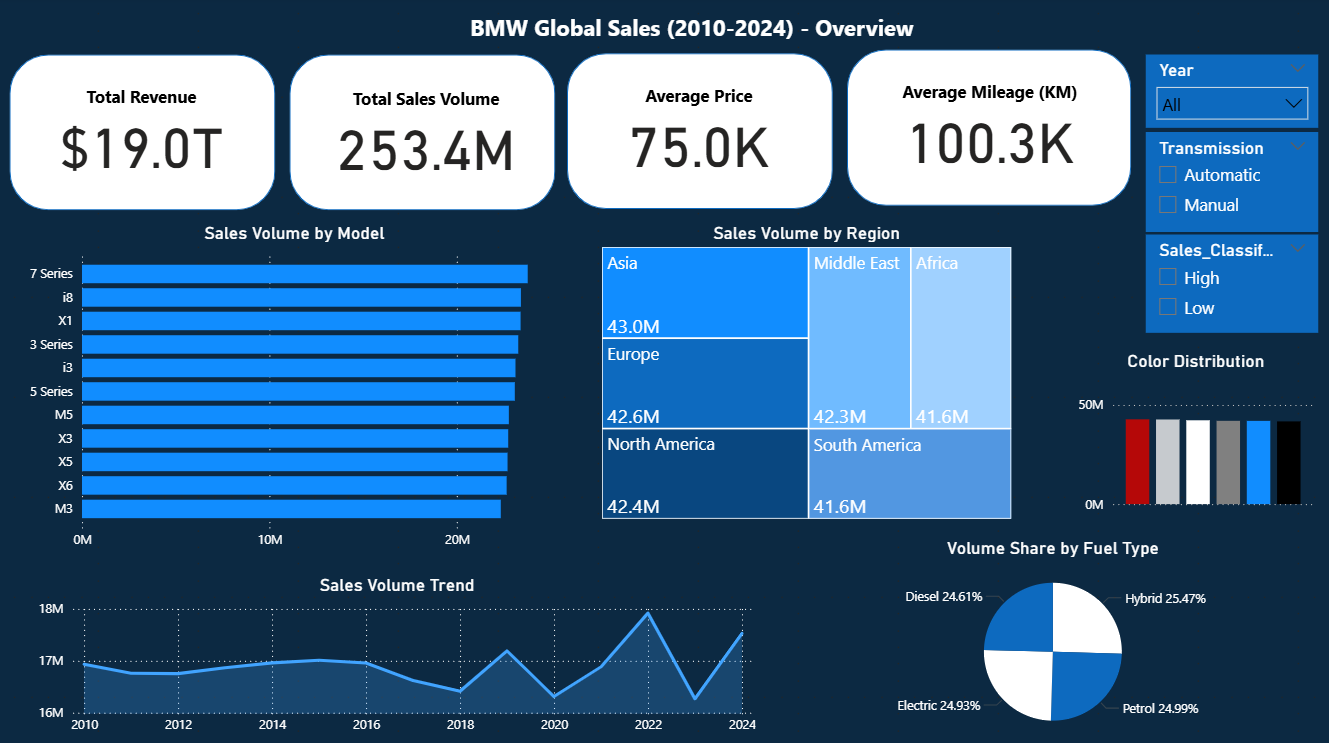

This screenshot's page, from the dashboard's own definition file:
{"tool":"powerbi","page":{"name":"Overview Dashboard","canvas":[1280,720],"ordinal":1},"visuals":[{"type":"slicer","fields":{"Values":["BMW sales data (2010-2024) (1).Year"]},"box":[1102.9,55.7,165.7,70],"z":0},{"type":"group","id":"g1","title":"Group 2","box":[12.3,55.7,255.7,148.6],"z":1000},{"type":"shape","box":[12.3,55.7,255.2,149.6],"z":2000,"group":"g1"},{"type":"group","id":"g2","title":"Group 3","box":[280.4,55.7,255.2,149.6],"z":2000},{"type":"textbox","box":[367.1,10,600,45.7],"z":3000},{"type":"shape","box":[816.1,50,272.9,150],"z":3000,"group":"g4"},{"type":"shape","box":[547.6,54.3,255.2,149.6],"z":3000,"group":"g3"},{"type":"shape","box":[280.4,55.7,255.2,149.6],"z":3000,"group":"g2"},{"type":"group","id":"g3","title":"Group 3","box":[547.6,54.3,255.7,150],"z":4000},{"type":"cardVisual","fields":{"Data":["BMW sales data (2010-2024) (1).Average Mileage"]},"box":[843.2,59.8,219.8,129.4],"z":4000,"group":"g4"},{"type":"cardVisual","fields":{"Data":["BMW sales data (2010-2024) (1).Average Price"]},"box":[575,65.3,199,129],"z":4000,"group":"g3"},{"type":"cardVisual","fields":{"Data":["BMW sales data (2010-2024) (1).Total_Volume"]},"box":[308.2,67.5,207.1,128.6],"z":4000,"group":"g2"},{"type":"lineChart","title":"Sales Volume Trend","fields":{"Y":["Sum(BMW sales data (2010-2024) (1).Sales_Volume)"],"Category":["BMW sales data (2010-2024) (1).Year"]},"box":[34.3,554.3,698.6,162.9],"z":5000},{"type":"barChart","fields":{"Category":["BMW sales data (2010-2024) (1).Model"],"Y":["Sum(BMW sales data (2010-2024) (1).Sales_Volume)"]},"box":[22.9,215.7,525.7,322.9],"z":6000},{"type":"cardVisual","fields":{"Data":["BMW sales data (2010-2024) (1).Total_Revenue"]},"box":[39.7,66.7,199,129],"z":7000,"group":"g1"},{"type":"treemap","fields":{"Group":["BMW sales data (2010-2024) (1).Region"],"Values":["Sum(BMW sales data (2010-2024) (1).Sales_Volume)"]},"box":[575.7,215.7,402.9,290],"z":7000},{"type":"pieChart","title":"Volume Share by Fuel Type","fields":{"Category":["BMW sales data (2010-2024) (1).Fuel_Type"],"Y":["Sum(BMW sales data (2010-2024) (1).Sales_Volume)"]},"box":[842.9,518.6,342.9,201.4],"z":8000},{"type":"slicer","fields":{"Values":["BMW sales data (2010-2024) (1).Transmission"]},"box":[1102.9,130,165.7,95.7],"z":9000},{"type":"slicer","fields":{"Values":["BMW sales data (2010-2024) (1).Sales_Classification"]},"box":[1102.9,228.6,165.7,94.3],"z":10000},{"type":"columnChart","title":"Color Distribution","fields":{"Category":["BMW sales data (2010-2024) (1).Color"],"Y":["Sum(BMW sales data (2010-2024) (1).Sales_Volume)"]},"box":[1032.9,340,235.7,161.4],"z":11000},{"type":"group","id":"g4","title":"Group 1","box":[816.1,50,272.9,150],"z":12000}]}

Visuals, with their boxes in screenshot pixels (x1, y1, x2, y2), scaled from the page's 1280x720 canvas onto the 1329x743 screenshot:
slicer - BMW sales data (2010-2024) (1).Year: [left=1145, top=57, right=1317, bottom=130]
"Group 2" group: [left=13, top=57, right=278, bottom=211]
shape: [left=13, top=57, right=278, bottom=212]
"Group 3" group: [left=291, top=57, right=556, bottom=212]
textbox: [left=381, top=10, right=1004, bottom=57]
shape: [left=847, top=52, right=1131, bottom=206]
shape: [left=569, top=56, right=834, bottom=210]
shape: [left=291, top=57, right=556, bottom=212]
"Group 3" group: [left=569, top=56, right=834, bottom=211]
cardVisual - BMW sales data (2010-2024) (1).Average Mileage: [left=875, top=62, right=1104, bottom=195]
cardVisual - BMW sales data (2010-2024) (1).Average Price: [left=597, top=67, right=804, bottom=201]
cardVisual - BMW sales data (2010-2024) (1).Total_Volume: [left=320, top=70, right=535, bottom=202]
"Sales Volume Trend" lineChart: [left=36, top=572, right=761, bottom=740]
barChart - BMW sales data (2010-2024) (1).Model x Sum(BMW sales data (2010-2024) (1).Sales_Volume): [left=24, top=223, right=570, bottom=556]
cardVisual - BMW sales data (2010-2024) (1).Total_Revenue: [left=41, top=69, right=248, bottom=202]
treemap - BMW sales data (2010-2024) (1).Region x Sum(BMW sales data (2010-2024) (1).Sales_Volume): [left=598, top=223, right=1016, bottom=522]
"Volume Share by Fuel Type" pieChart: [left=875, top=535, right=1231, bottom=742]
slicer - BMW sales data (2010-2024) (1).Transmission: [left=1145, top=134, right=1317, bottom=233]
slicer - BMW sales data (2010-2024) (1).Sales_Classification: [left=1145, top=236, right=1317, bottom=333]
"Color Distribution" columnChart: [left=1072, top=351, right=1317, bottom=517]
"Group 1" group: [left=847, top=52, right=1131, bottom=206]
